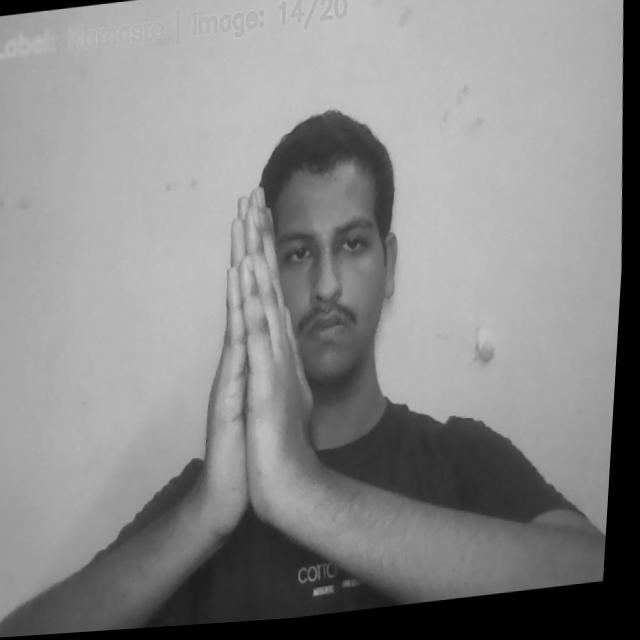Namaste: (179, 188, 331, 532)
